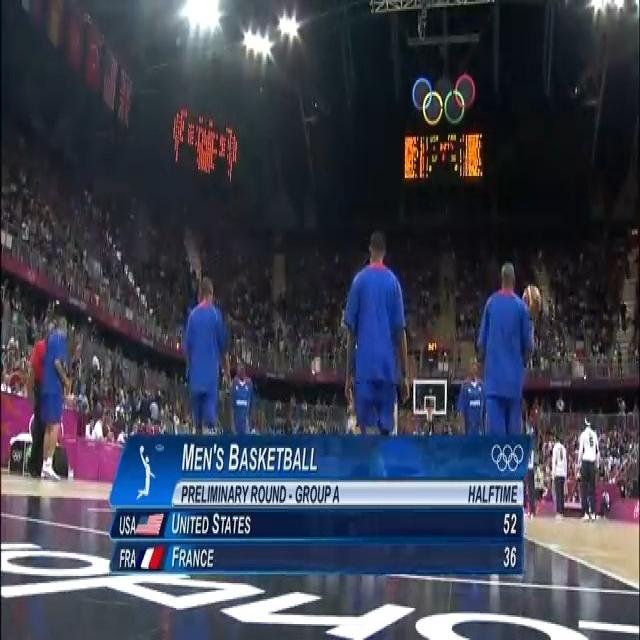basketball: (524, 282, 541, 315)
hoop: (424, 402, 436, 424)
